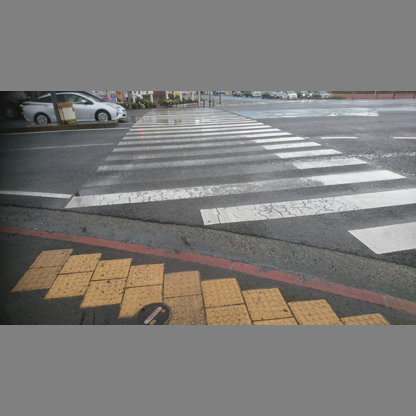brailleblock: (83, 259, 131, 304), (52, 253, 96, 294), (201, 277, 237, 323), (230, 293, 280, 324), (124, 263, 164, 301), (160, 271, 199, 300), (34, 252, 63, 289), (278, 303, 327, 323)
crosswalk: (123, 105, 372, 250)
